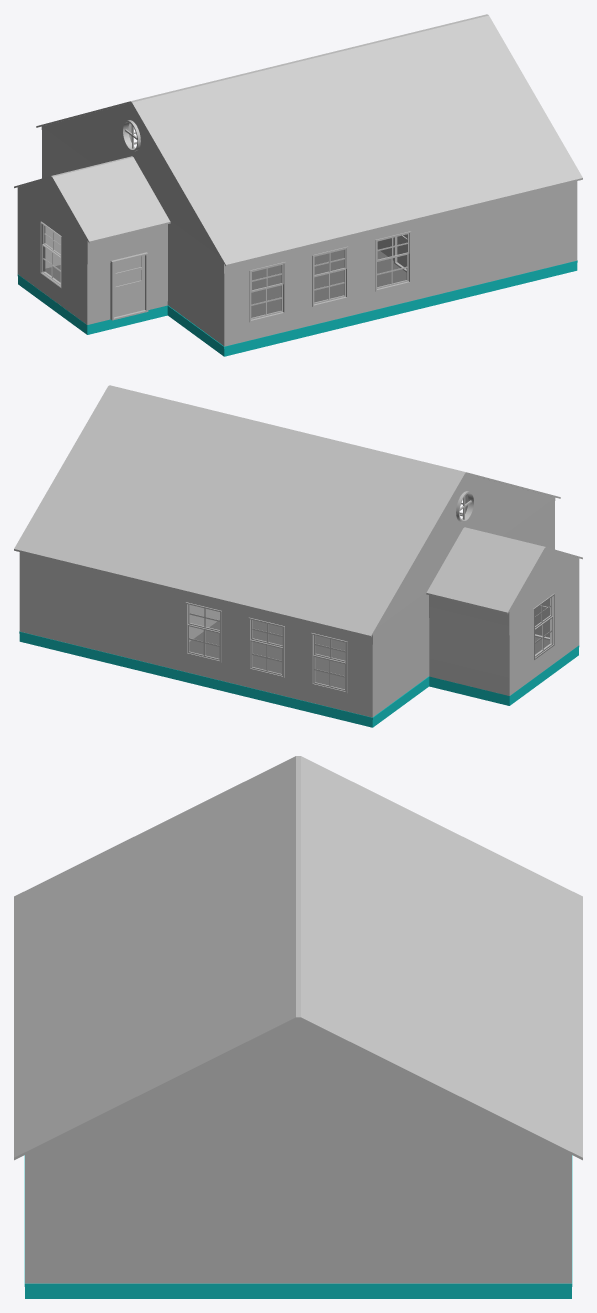
The model's file is BarrackHouseOld.fbx.
3 views of the same model, one above another, from view 1: azimuth 30°, elevation 25°; view 2: azimuth 150°, elevation 25°; view 3: azimuth 270°, elevation 25° (orthographic). The views are drawn at different scales.
Parts seen in each view (by area): view 1: Roof, Floor, Door3; view 2: Roof, Floor; view 3: Roof, Floor.
Boxes of the visible parts, x1=… form: Roof: x1=14, y1=14, x2=582, y2=266; Floor: x1=17, y1=123, x2=577, y2=356; Door3: x1=114, y1=255, x2=144, y2=317; Roof: x1=14, y1=385, x2=582, y2=637; Floor: x1=19, y1=494, x2=579, y2=727; Roof: x1=14, y1=756, x2=582, y2=1160; Floor: x1=24, y1=1153, x2=572, y2=1298.
Bounding box in the file's own units: 1580 × 652 × 1189.
